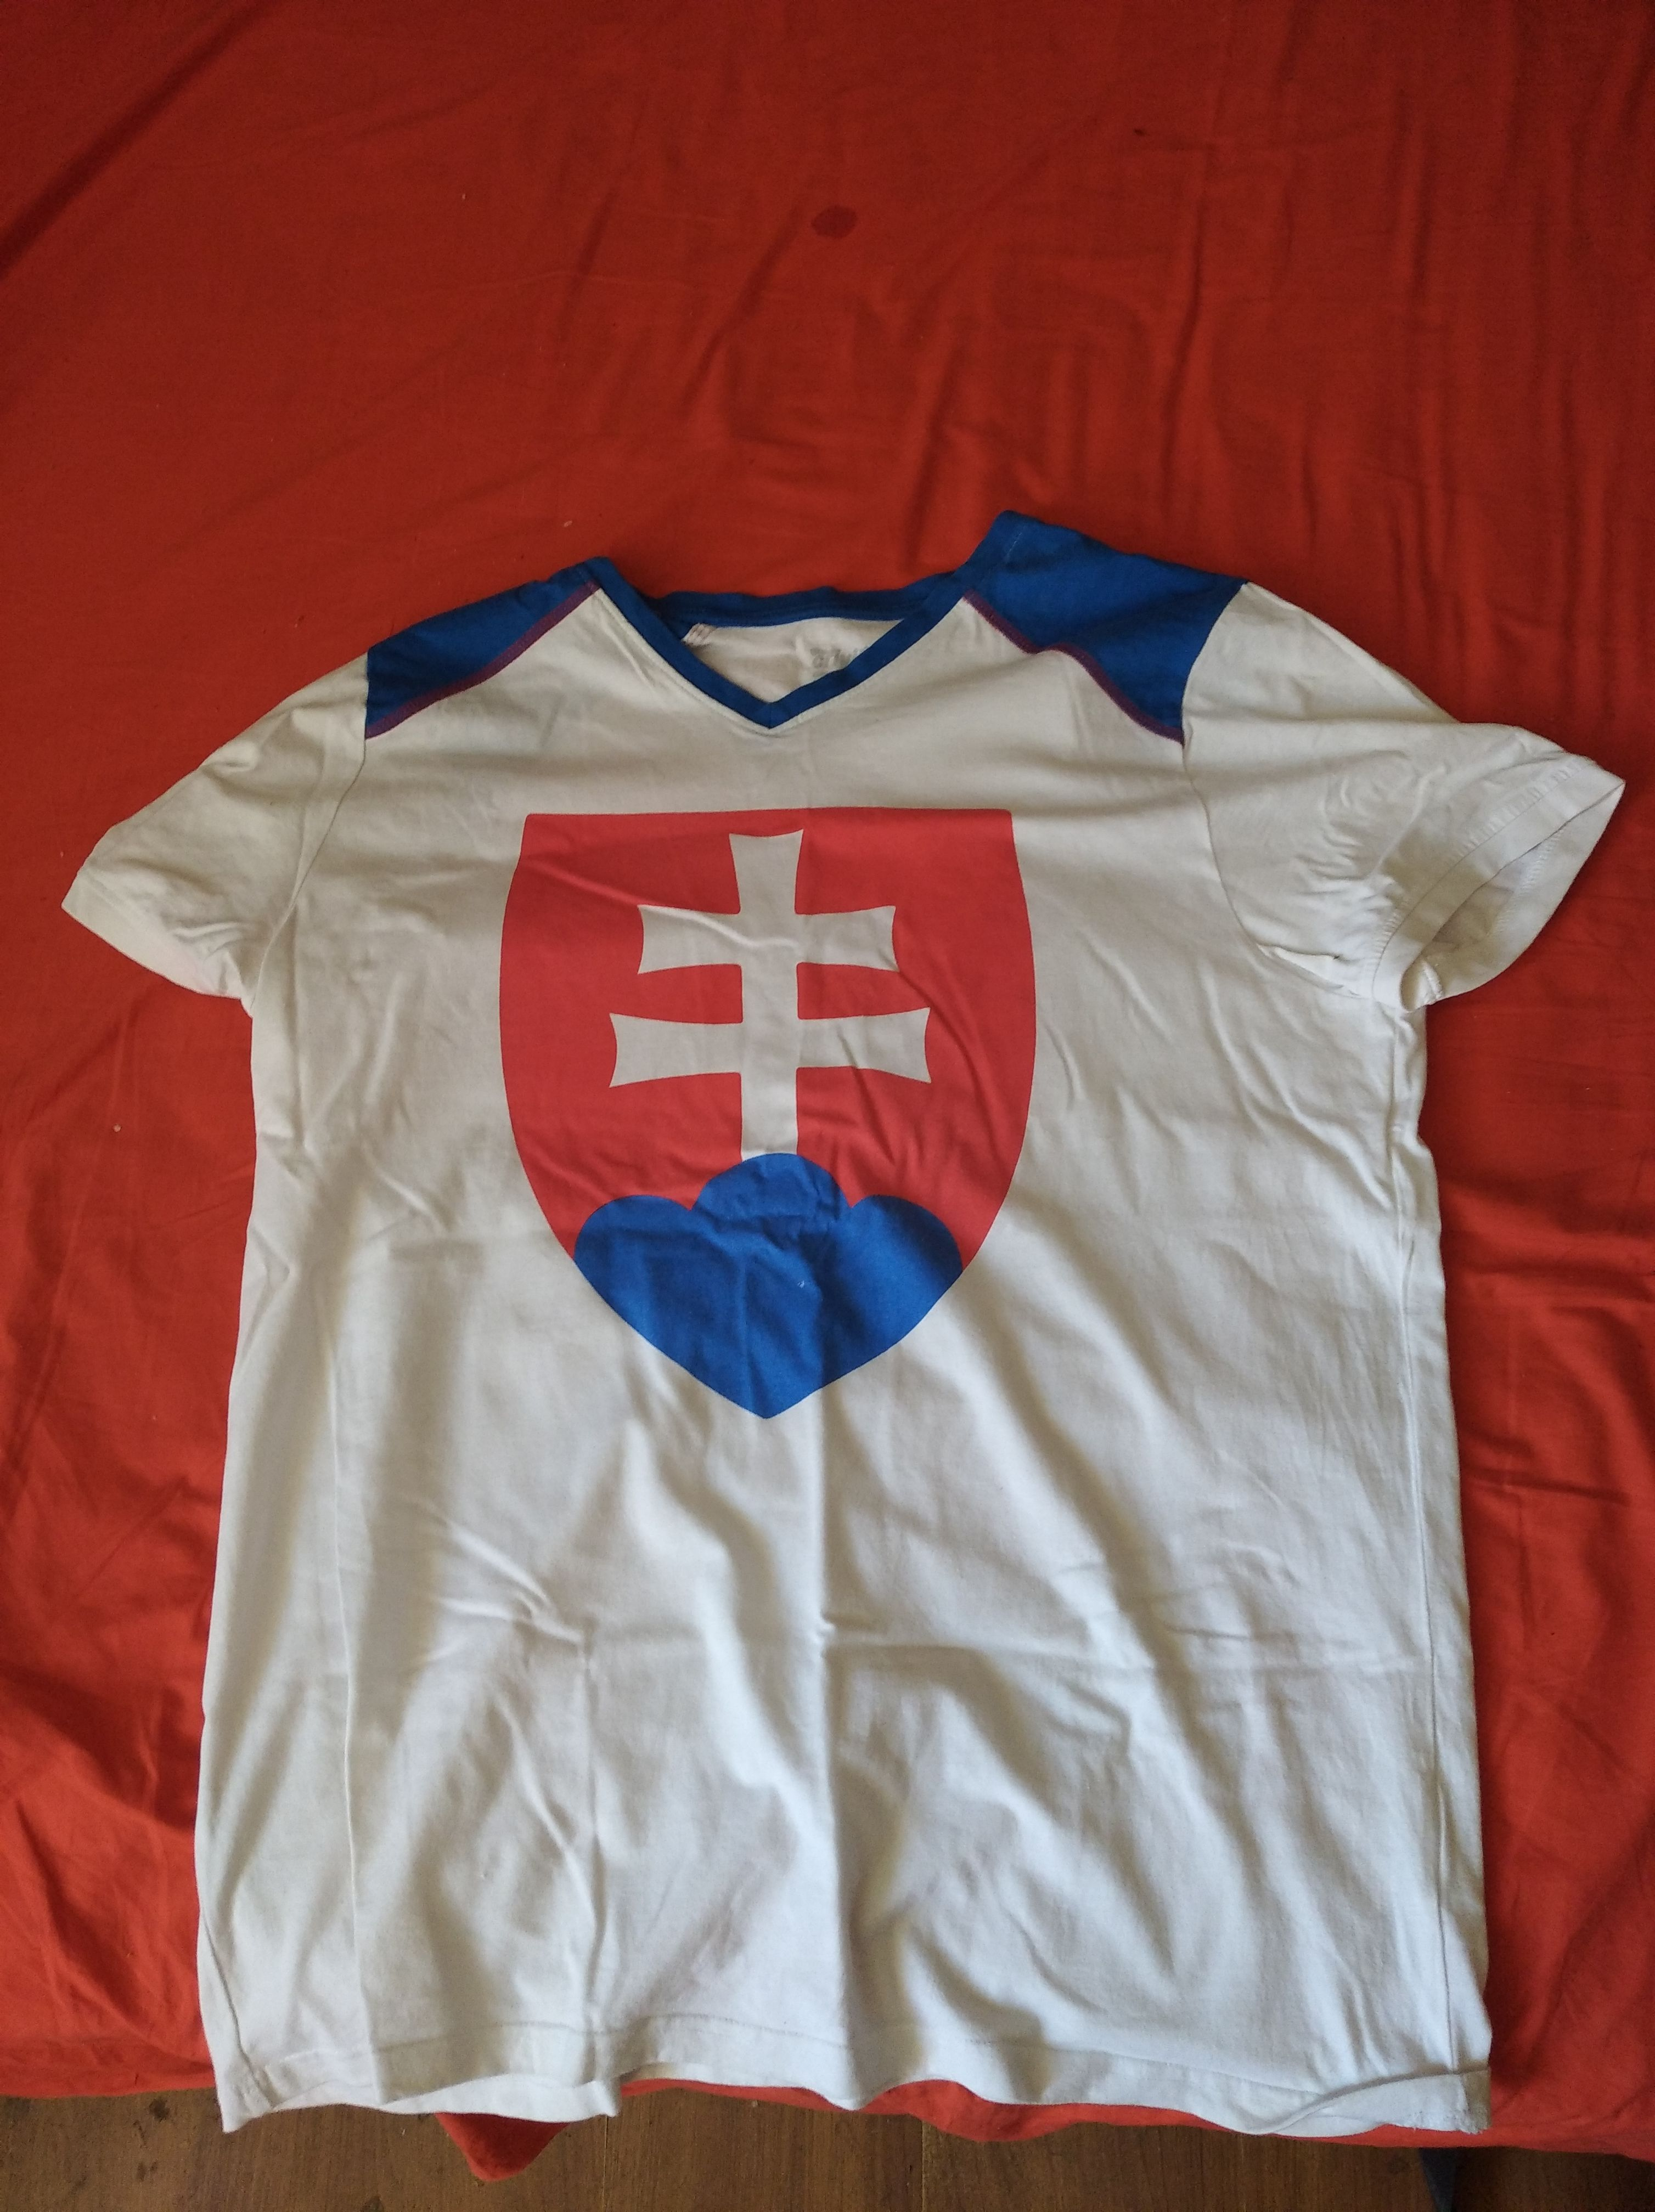clothes: (54, 521, 1632, 2123)
